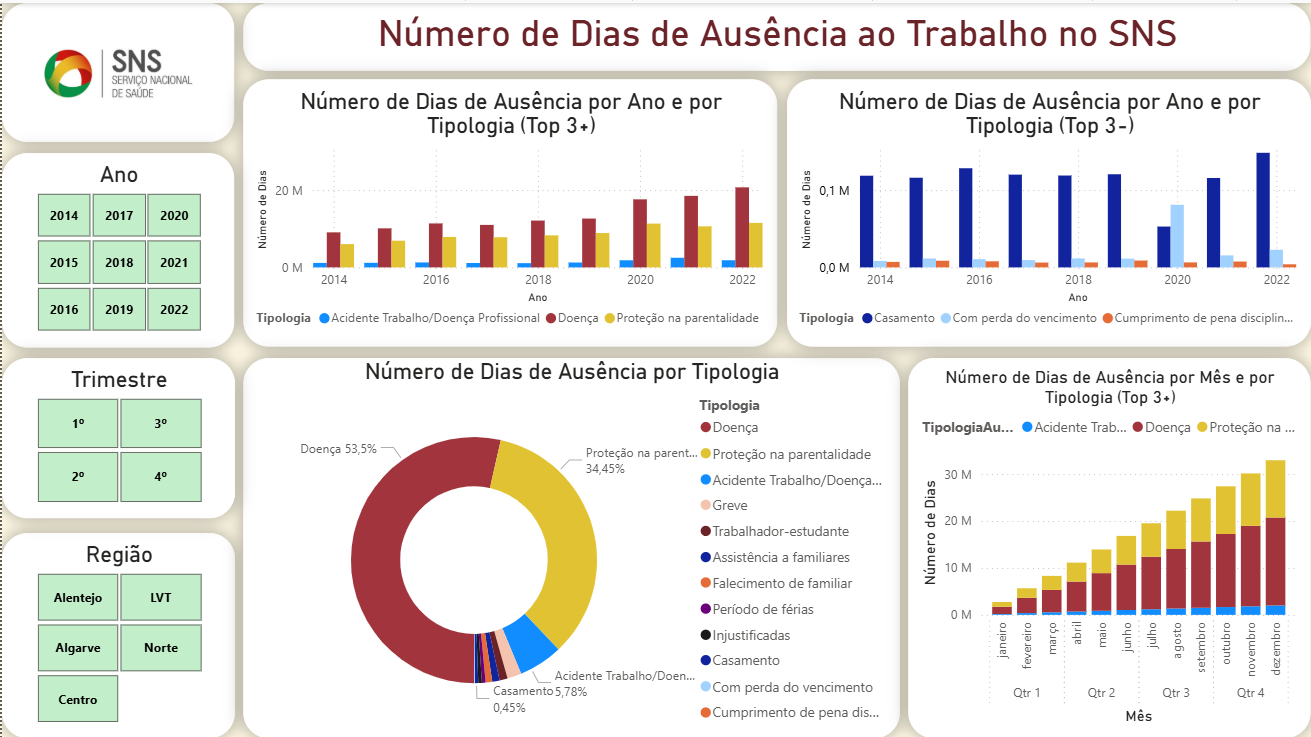

The page's visual inventory and layout, read from the dashboard file:
{"tool":"powerbi","page":{"name":"Dashboard_TipologiaAusência","canvas":[1280,720],"ordinal":3},"visuals":[{"type":"textbox","title":"Número de Dias de Ausência ao Trabalho no SNS","box":[236.2,0,1043.8,66.2],"z":0},{"type":"image","box":[0,0,227.5,136.2],"z":1000},{"type":"slicer","title":"Região","fields":{"Values":["DimRegião.Região"]},"box":[0,518.9,227.8,201.1],"z":2000},{"type":"clusteredColumnChart","title":"Número de Dias de Ausência por Ano e por Tipologia (Top 3+)","fields":{"Category":["DimTempo.Ano"],"Y":["Sum(FactNumDiasAusência.NúmDiasAusência)"],"Series":["DimTipologiaAusência.TipologiaAusência"]},"box":[236.2,75,522.5,261.2],"z":3000},{"type":"donutChart","title":"Número de Dias de Ausência por Tipologia","fields":{"Y":["Sum(FactNumDiasAusência.NúmDiasAusência)"],"Category":["DimTipologiaAusência.TipologiaAusência"]},"box":[235.6,347.8,642.2,372.2],"z":4000},{"type":"slicer","title":"Ano","fields":{"Values":["DimTempo.Ano"]},"box":[0,146.2,227.5,190],"z":5000},{"type":"clusteredColumnChart","title":"Número de Dias de Ausência por Ano e por Tipologia (Top 3-)","fields":{"Category":["DimTempo.Ano"],"Y":["Sum(FactNumDiasAusência.NúmDiasAusência)"],"Series":["DimTipologiaAusência.TipologiaAusência"]},"box":[767.5,75,512.5,261.2],"z":6000},{"type":"slicer","title":"Trimestre","fields":{"Values":["DimTempo.TrimestreNúmero"]},"box":[0,347.8,227.8,156.7],"z":7000},{"type":"columnChart","title":"Número de Dias de Ausência por Mês e por Tipologia (Top 3+)","fields":{"Y":["Sum(FactNumDiasAusência.NúmDiasAusência)"],"Series":["DimTipologiaAusência.TipologiaAusência"],"Category":["DimTempo.Data.Variação.Hierarquia de Datas.Trimestre","DimTempo.Data.Variação.Hierarquia de Datas.Mês"]},"box":[886.7,347.8,393.3,372.2],"z":8000}]}

Visuals, with their boxes in screenshot pixels (x1, y1, x2, y2), scaled from the page's 1280x720 canvas onto the 1311x737 screenshot:
"Número de Dias de Ausência ao Trabalho no SNS" textbox: bbox=(242, 0, 1310, 68)
image: bbox=(0, 0, 233, 139)
"Região" slicer: bbox=(0, 531, 233, 736)
"Número de Dias de Ausência por Ano e por Tipologia (Top 3+)" clusteredColumnChart: bbox=(242, 77, 777, 344)
"Número de Dias de Ausência por Tipologia" donutChart: bbox=(241, 356, 899, 736)
"Ano" slicer: bbox=(0, 150, 233, 344)
"Número de Dias de Ausência por Ano e por Tipologia (Top 3-)" clusteredColumnChart: bbox=(786, 77, 1310, 344)
"Trimestre" slicer: bbox=(0, 356, 233, 516)
"Número de Dias de Ausência por Mês e por Tipologia (Top 3+)" columnChart: bbox=(908, 356, 1310, 736)
